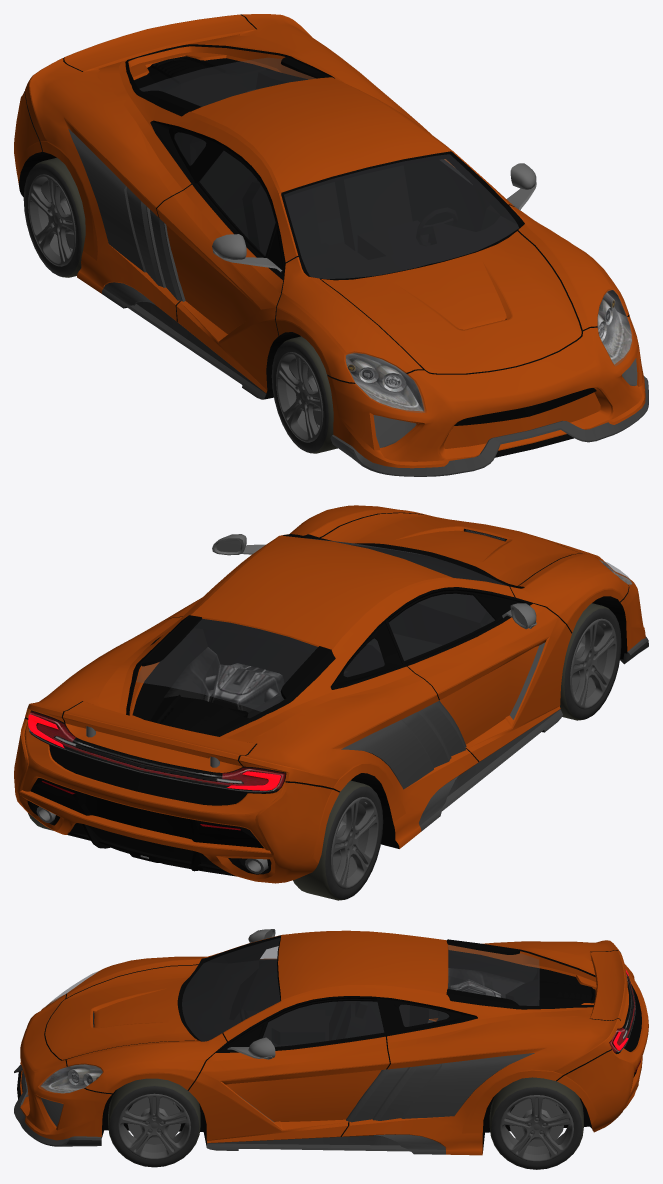
The picture shows the model from 3 angles, top to bottom: view 1: azimuth 30°, elevation 25°; view 2: azimuth 150°, elevation 25°; view 3: azimuth 270°, elevation 25°; orthographic projection. The views are drawn at different scales.
Parts seen in each view (by area): view 1: C_McLoud_Body_01_0, C_McLoud_Underbody_01_0, C_McLoud_FrontGlass_01_0, C_McLoud_CarbonParts_01_0, mp412crim002.000, C_McLoud_TailLights_01_0, mp412crim002.002, C_McLoud_HeadlightGlass_01_0, C_Nister_Rearview_01 (1)_0; view 2: C_McLoud_Body_01_0, C_McLoud_Underbody_01_0, C_McLoud_FrontGlass_01_0, C_McLoud_TailLights_01_0, C_McLoud_CarbonParts_01_0, mp412crim002.000, mp412crim002.002, C_Nister_Rearview_01 (1)_0, C_McLoud_ChromeParts_01_0; view 3: C_McLoud_Body_01_0, C_McLoud_Underbody_01_0, C_McLoud_FrontGlass_01_0, C_McLoud_CarbonParts_01_0, mp412crim002.001, mp412crim002.003, C_McLoud_TailLights_01_0, C_McLoud_HeadlightGlass_01_0, C_Nister_Rearview_01 (1)_0.
Boxes of the visible parts, x1,y1,x2,y2 form: C_McLoud_Body_01_0: (14,14,645,468); C_McLoud_Underbody_01_0: (19,14,629,457); C_McLoud_FrontGlass_01_0: (140,58,518,278); C_McLoud_CarbonParts_01_0: (68,129,648,476); mp412crim002.000: (23,157,85,277); C_McLoud_TailLights_01_0: (247,89,637,447); mp412crim002.002: (271,336,337,453); C_McLoud_HeadlightGlass_01_0: (345,290,632,412); C_Nister_Rearview_01 (1)_0: (212,163,536,271); C_McLoud_Body_01_0: (14,505,645,883); C_McLoud_Underbody_01_0: (24,512,629,876); C_McLoud_FrontGlass_01_0: (137,538,505,711); C_McLoud_TailLights_01_0: (28,528,631,858); C_McLoud_CarbonParts_01_0: (341,636,648,831); mp412crim002.000: (293,780,383,900); mp412crim002.002: (560,603,621,720); C_Nister_Rearview_01 (1)_0: (212,534,536,629); C_McLoud_ChromeParts_01_0: (36,726,268,873); C_McLoud_Body_01_0: (20,930,648,1155); C_McLoud_Underbody_01_0: (17,935,641,1153); C_McLoud_FrontGlass_01_0: (182,938,539,1046); C_McLoud_CarbonParts_01_0: (14,1020,534,1154); mp412crim002.001: (489,1077,583,1169); mp412crim002.003: (108,1078,200,1167); C_McLoud_TailLights_01_0: (41,968,640,1126); C_McLoud_HeadlightGlass_01_0: (39,971,102,1093); C_Nister_Rearview_01 (1)_0: (227,929,275,1059).
Size of the model in its own units: 210 by 126 by 456.
Materials: 23 (9 with a texture image).
